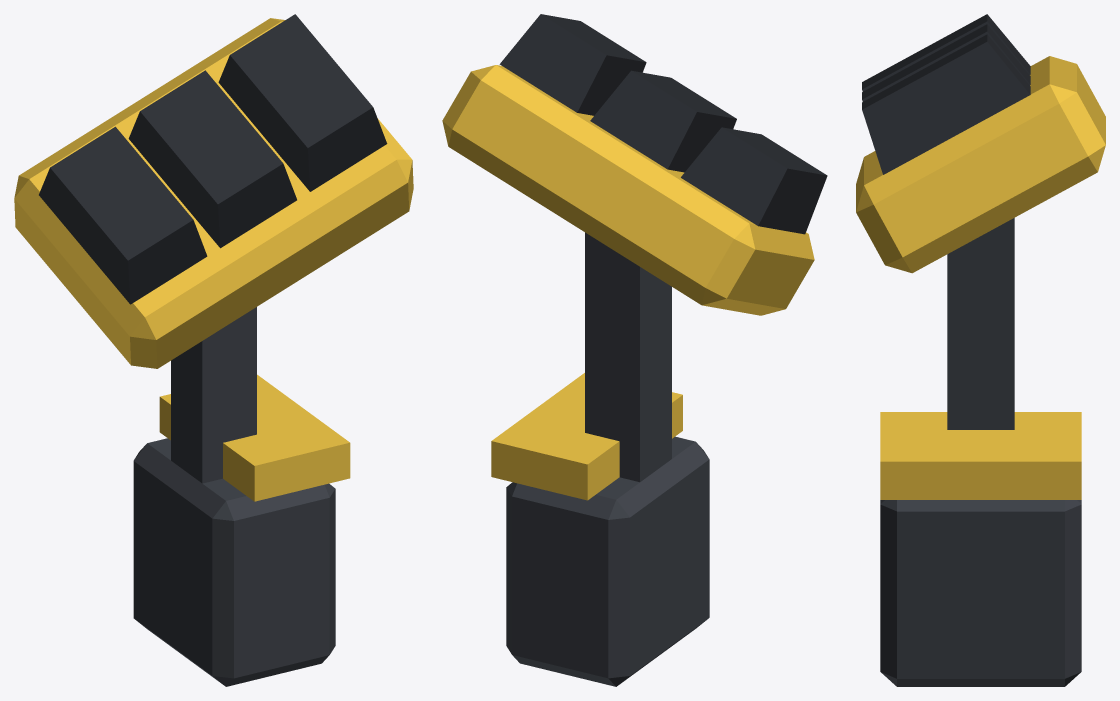
File: keyboardsmash_m2_1.glb
3 views of the same model, side by side, from view 1: azimuth 30°, elevation 25°; view 2: azimuth 150°, elevation 25°; view 3: azimuth 270°, elevation 25° (orthographic). The views are drawn at different scales.
Parts seen in each view (by area): view 1: keyboardsmash_m2_1_mesh; view 2: keyboardsmash_m2_1_mesh; view 3: keyboardsmash_m2_1_mesh.
Boxes of the visible parts, x1,y1,x2,y2 form: keyboardsmash_m2_1_mesh: [14, 14, 413, 686]; keyboardsmash_m2_1_mesh: [442, 14, 827, 686]; keyboardsmash_m2_1_mesh: [856, 14, 1105, 686].
Size of the model in its own units: 0.2382 by 0.4296 by 0.1489.
